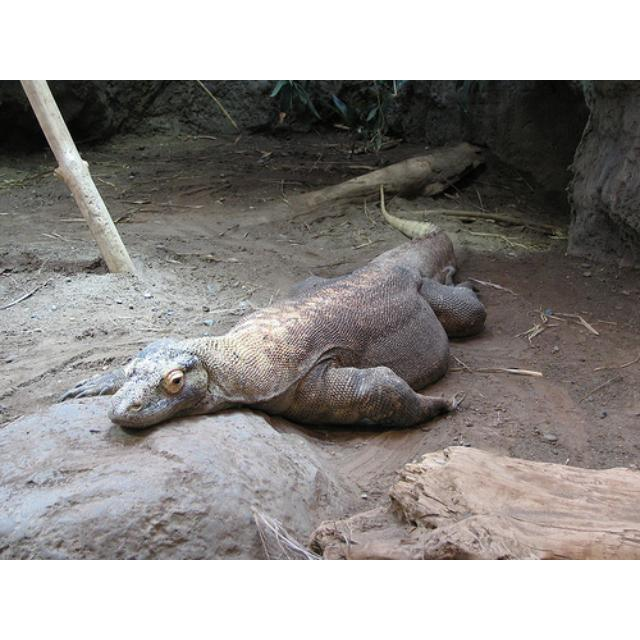KomodoDragon: (53, 181, 488, 429)
